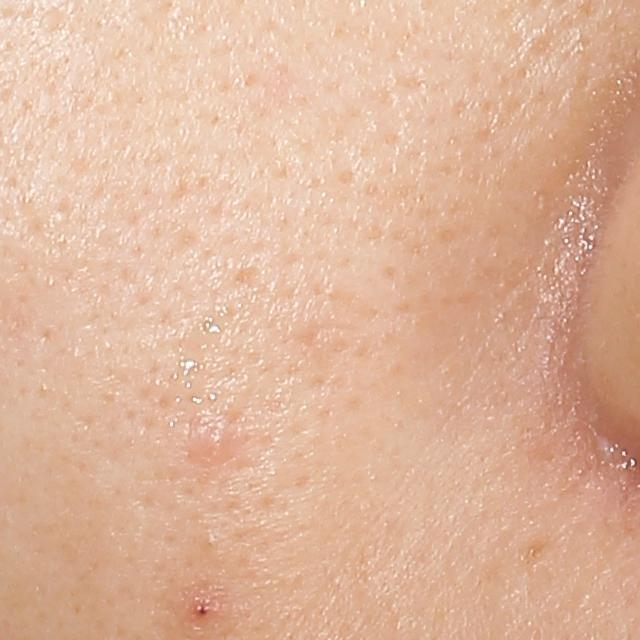comedo: (195, 526, 229, 559)
papule: (194, 421, 240, 463)
